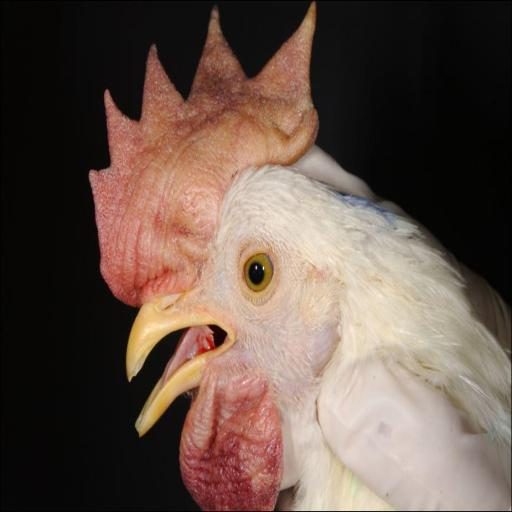disease: (180, 28, 291, 128), (181, 407, 284, 510)
